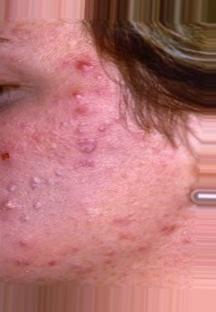Acne: (3, 48, 180, 251)
